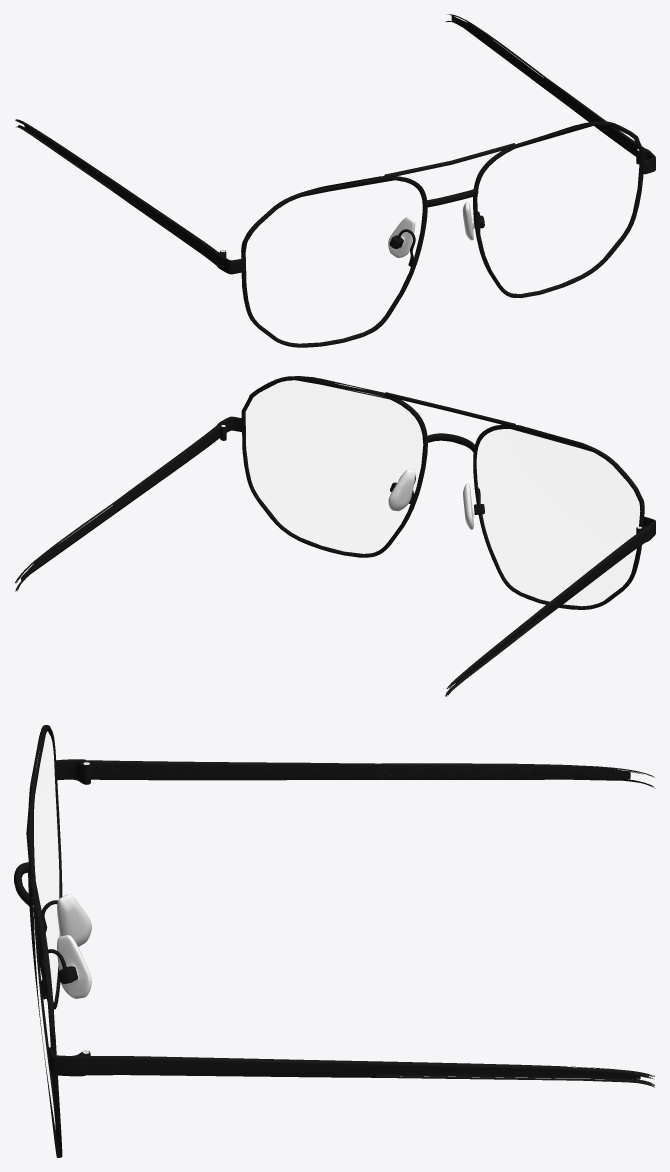
File: modern-glass.glb
The picture shows the model from 3 angles, top to bottom: view 1: azimuth 30°, elevation 25°; view 2: azimuth 150°, elevation 25°; view 3: azimuth 270°, elevation 25°; orthographic projection. The views are drawn at different scales.
Parts seen in each view (by area): view 1: NurbsCurve_0; view 2: NurbsCurve_0; view 3: NurbsCurve_0.
Part boxes in pixels (x1,y1,x2,y2): NurbsCurve_0: (15,14,655,347); NurbsCurve_0: (15,376,655,696); NurbsCurve_0: (14,725,655,1157).
Size of the model in its own units: 4.9 by 1.77 by 4.38.
9 materials, 6 textured.
